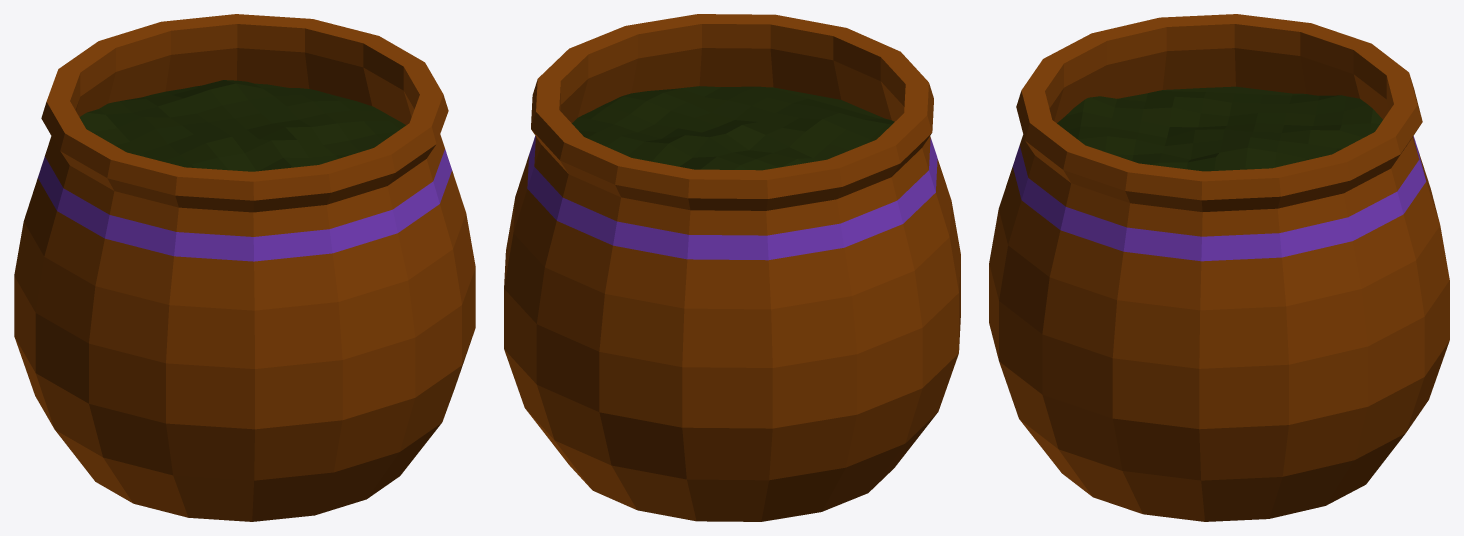
File: pot_purple.glb
3 renders of one model, left to right at view 1: azimuth 30°, elevation 25°; view 2: azimuth 150°, elevation 25°; view 3: azimuth 270°, elevation 25°, orthographic.
Visible parts, largest first — view 1: pot_purple, dirt; view 2: pot_purple, dirt; view 3: pot_purple, dirt.
Part boxes in pixels (x1,y1,x2,y2): pot_purple: (14,14,475,521); dirt: (79,80,406,171); pot_purple: (504,14,960,521); dirt: (572,86,894,170); pot_purple: (989,14,1449,521); dirt: (1057,86,1382,171).
Size of the model in its own units: 1.6 by 1.36 by 1.6.
